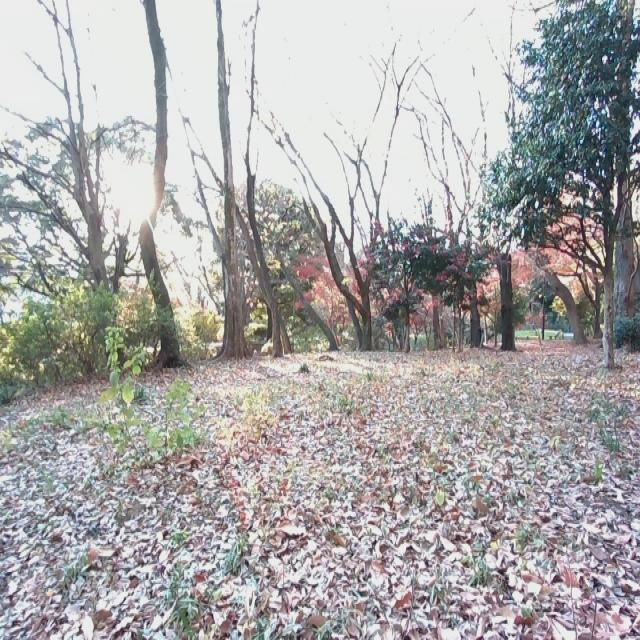bush: (0, 276, 212, 392), (84, 318, 207, 462)
tree: (280, 42, 431, 352), (28, 1, 137, 295), (207, 0, 294, 360), (188, 0, 247, 357), (564, 102, 640, 366), (142, 0, 195, 371), (612, 0, 640, 332), (456, 58, 488, 345), (538, 255, 583, 350), (497, 236, 519, 350)
